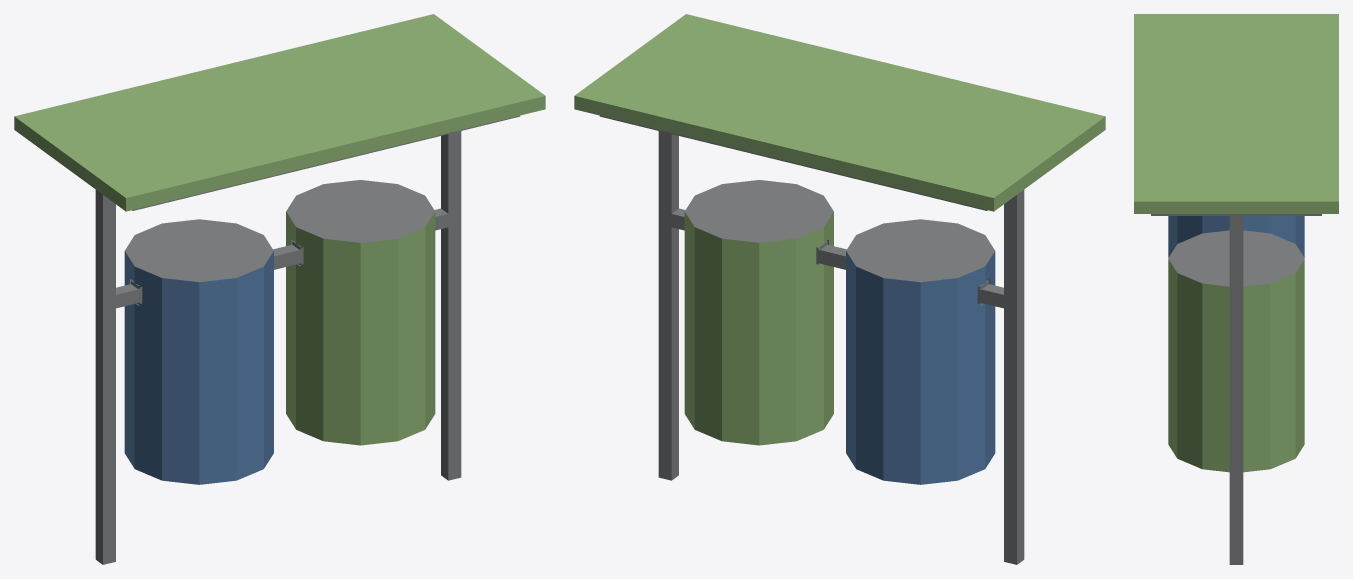
File: Twin_Dustbin.fbx
3 renders of one model, left to right at view 1: azimuth 30°, elevation 25°; view 2: azimuth 150°, elevation 25°; view 3: azimuth 270°, elevation 25°, orthographic. The views are drawn at different scales.
Visible parts, largest first — view 1: Twin_Dustbin; view 2: Twin_Dustbin; view 3: Twin_Dustbin.
Part boxes in pixels (x1,y1,x2,y2): Twin_Dustbin: [14, 14, 545, 564]; Twin_Dustbin: [574, 14, 1105, 564]; Twin_Dustbin: [1134, 14, 1338, 564].
Bounding box in the file's own units: 1.3 × 1.22 × 0.6.
